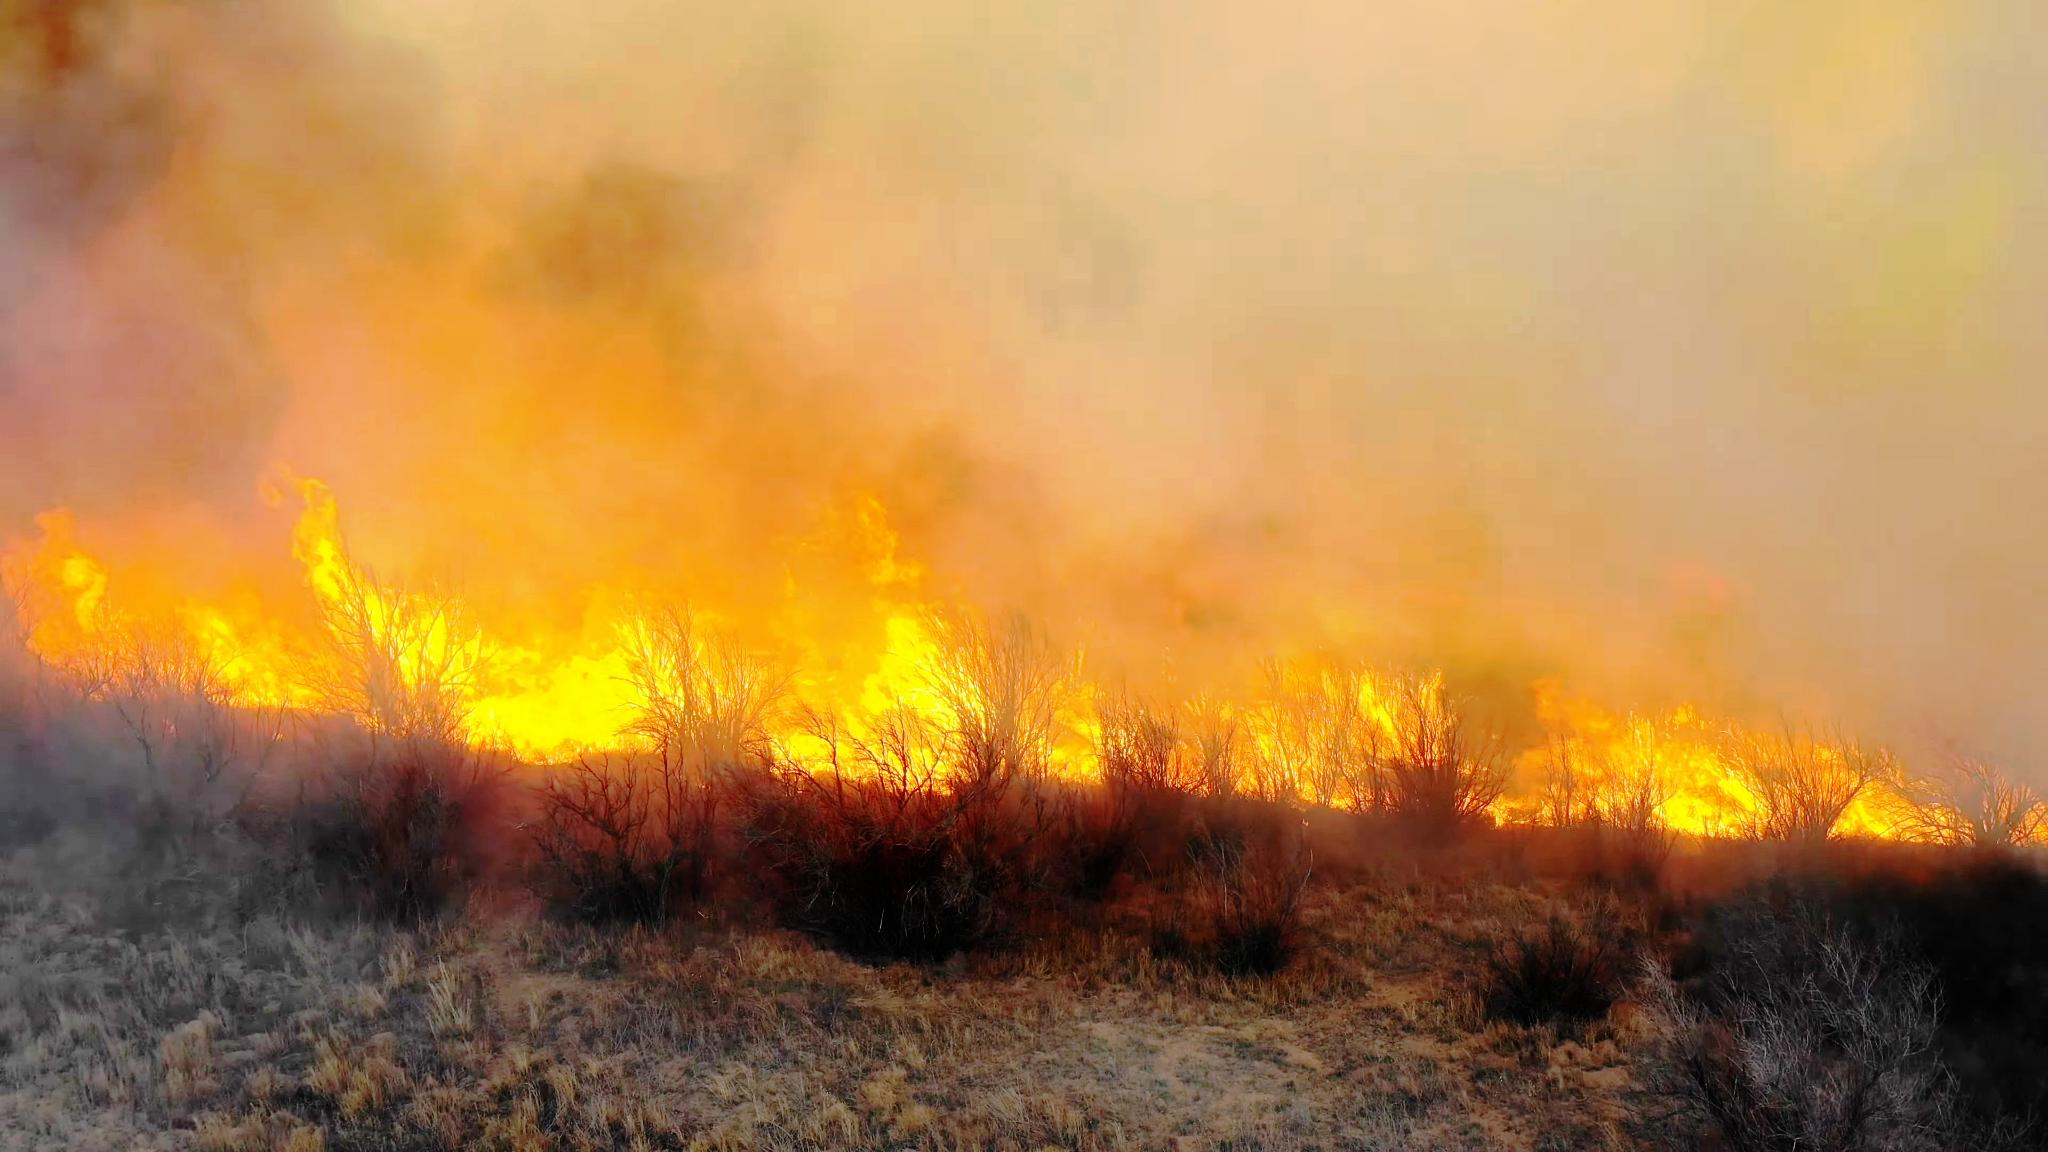fire: (300, 452, 667, 762), (653, 529, 999, 799), (969, 667, 1443, 814), (6, 519, 307, 726), (1454, 716, 1881, 859)
smoke: (516, 170, 973, 529)
